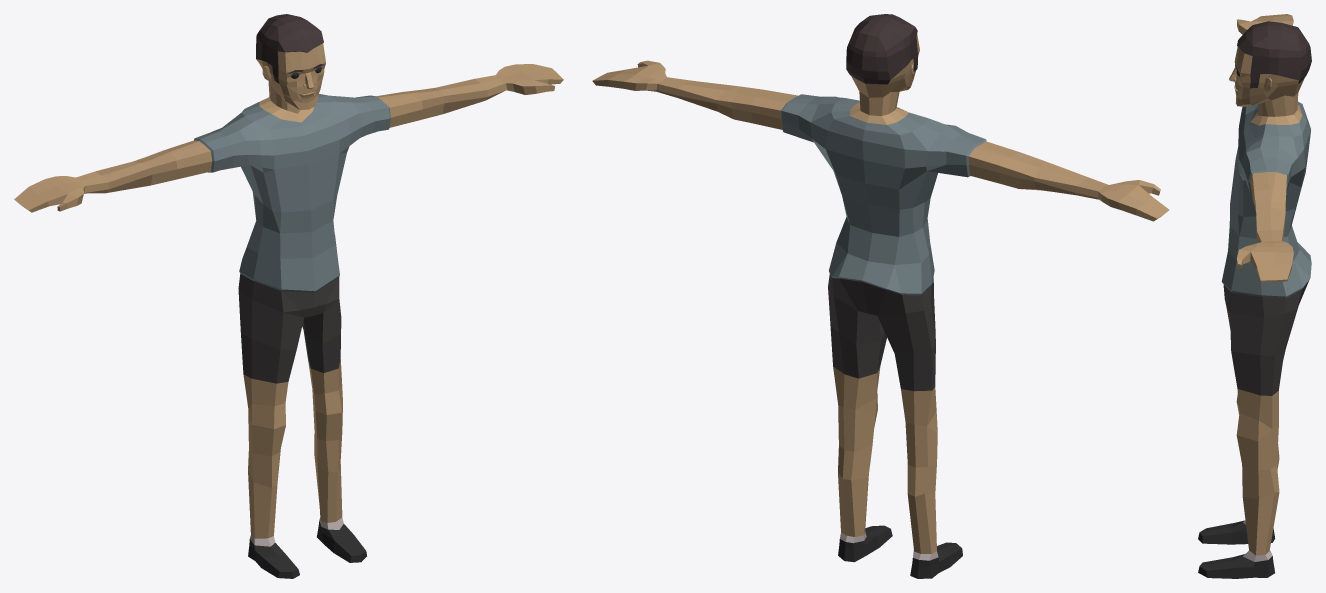
Rendered from Man_Casual.fbx.
3 views of the same model, side by side, from view 1: azimuth 30°, elevation 25°; view 2: azimuth 150°, elevation 25°; view 3: azimuth 270°, elevation 25° (orthographic). The views are drawn at different scales.
Parts seen in each view (by area): view 1: BaseHuman; view 2: BaseHuman; view 3: BaseHuman.
Boxes of the visible parts, left/top/right/bottom form: BaseHuman: left=14, top=14, right=563, bottom=578; BaseHuman: left=592, top=14, right=1169, bottom=578; BaseHuman: left=1198, top=14, right=1311, bottom=578.
Bounding box in the file's own units: 196 × 183 × 35.57.
